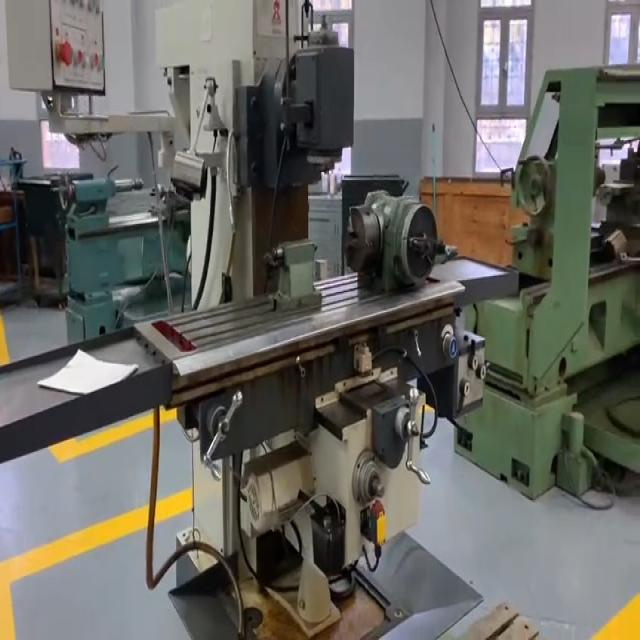tour parallele: (0, 0, 521, 640)
